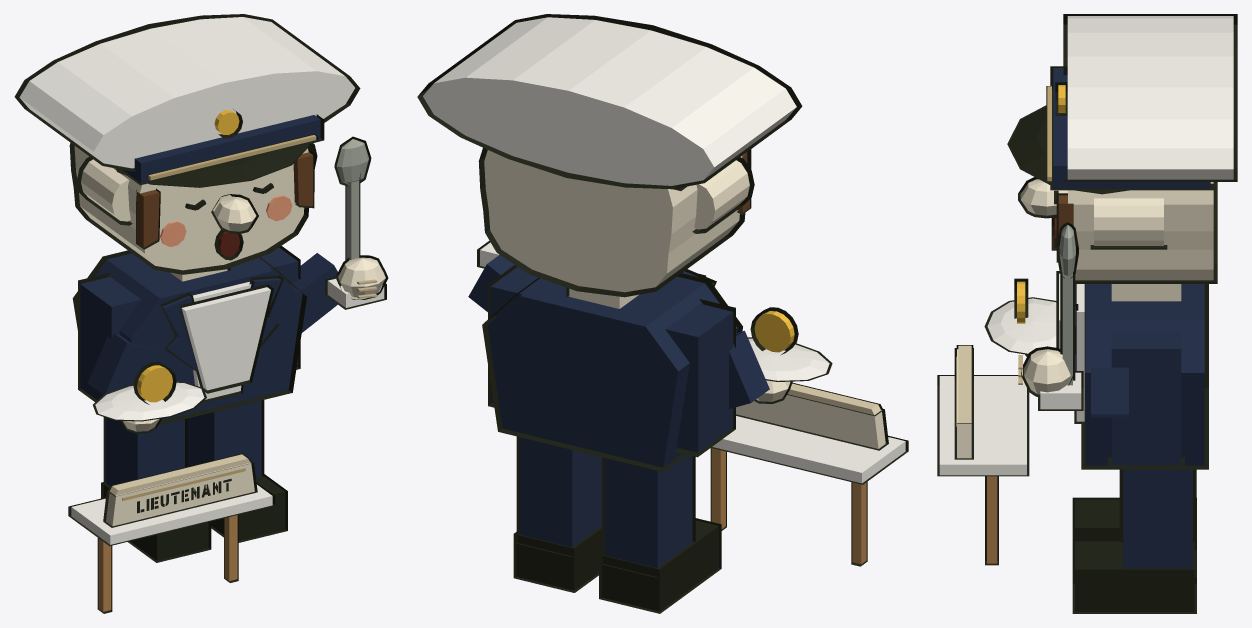
The picture shows the model from 3 angles, left to right: view 1: azimuth 30°, elevation 25°; view 2: azimuth 150°, elevation 25°; view 3: azimuth 270°, elevation 25°; orthographic projection. The views are drawn at different scales.
Visible parts, largest first — view 1: Link Marine; view 2: Link Marine; view 3: Link Marine.
Boxes of the visible parts, <box> form: Link Marine: <box>14,14,388,613</box>; Link Marine: <box>417,14,908,613</box>; Link Marine: <box>937,14,1237,613</box>.
Size of the model in its own units: 0.722 by 0.9942 by 0.5155.
